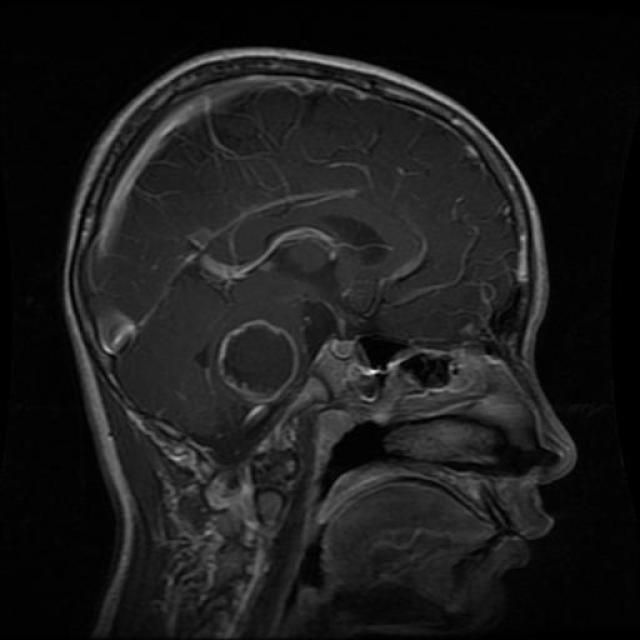glioma: (218, 317, 298, 405)
